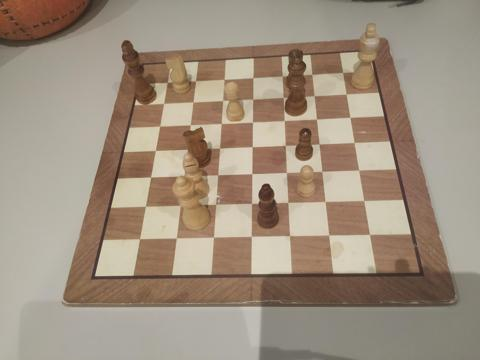xcorner: (174, 200, 185, 211), (217, 94, 228, 105), (170, 233, 180, 244), (140, 201, 150, 212), (210, 199, 220, 210), (246, 198, 256, 209), (283, 197, 293, 208), (321, 196, 331, 207), (359, 195, 370, 205), (212, 169, 222, 180), (182, 143, 192, 154), (280, 139, 291, 149), (349, 136, 360, 146), (154, 120, 165, 130), (312, 112, 322, 123), (309, 89, 320, 99), (341, 87, 351, 98), (162, 77, 173, 87), (190, 75, 201, 85), (219, 73, 229, 84), (337, 66, 348, 76), (134, 234, 144, 244), (208, 233, 218, 243), (246, 232, 256, 242), (285, 231, 295, 241), (325, 231, 335, 241), (365, 230, 375, 240), (145, 172, 155, 182), (178, 171, 188, 181), (247, 168, 257, 178), (282, 167, 292, 177), (318, 166, 328, 176), (354, 164, 364, 174), (150, 145, 160, 155), (214, 142, 224, 152), (247, 141, 257, 151), (315, 138, 325, 148), (185, 119, 195, 129), (216, 117, 226, 127), (247, 116, 257, 126), (279, 114, 289, 124), (345, 111, 355, 121), (159, 98, 169, 108), (188, 96, 198, 106), (248, 93, 258, 103), (278, 91, 288, 101), (248, 72, 258, 82), (277, 70, 287, 80), (307, 68, 317, 78)
